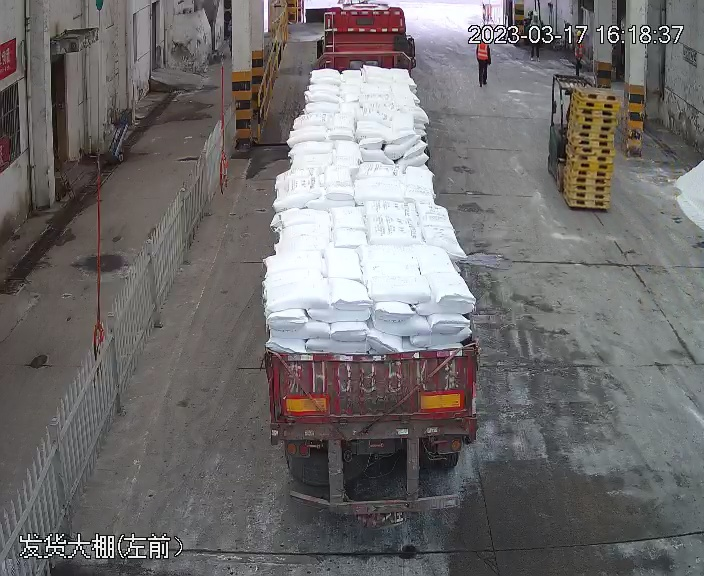people: (474, 35, 493, 87)
truck: (253, 9, 488, 486)
